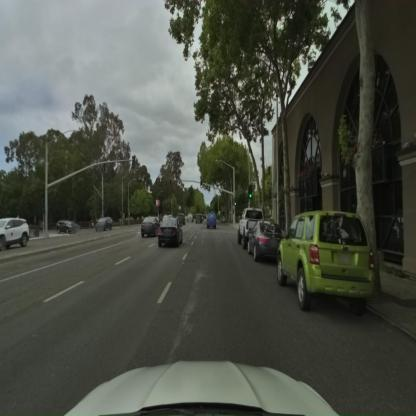car: (276, 209, 382, 314), (252, 222, 283, 262), (237, 208, 264, 246), (0, 218, 30, 251), (158, 224, 183, 247), (141, 217, 160, 236), (56, 220, 80, 234), (95, 217, 113, 232), (206, 212, 216, 228)
traffic light: (249, 185, 254, 203)
